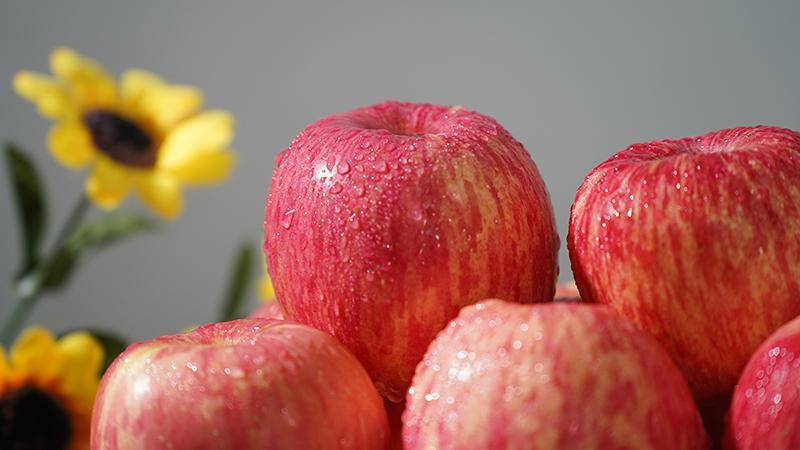apple: (261, 93, 562, 393), (564, 117, 793, 410)
